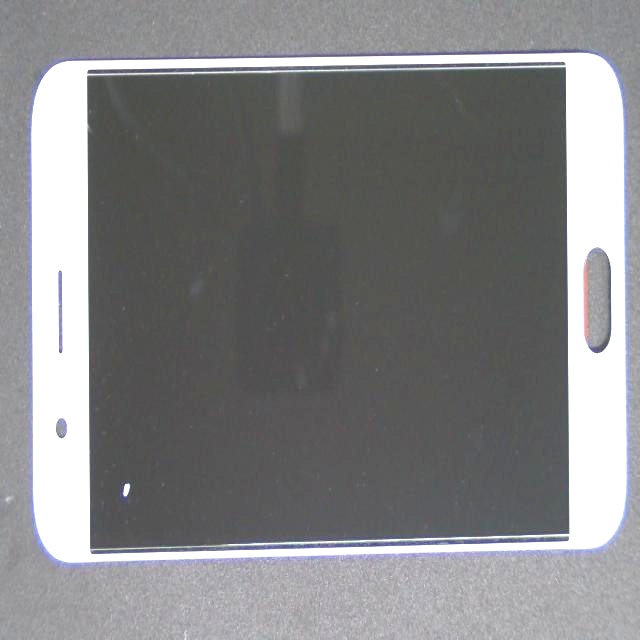stain: (83, 259, 208, 640)
